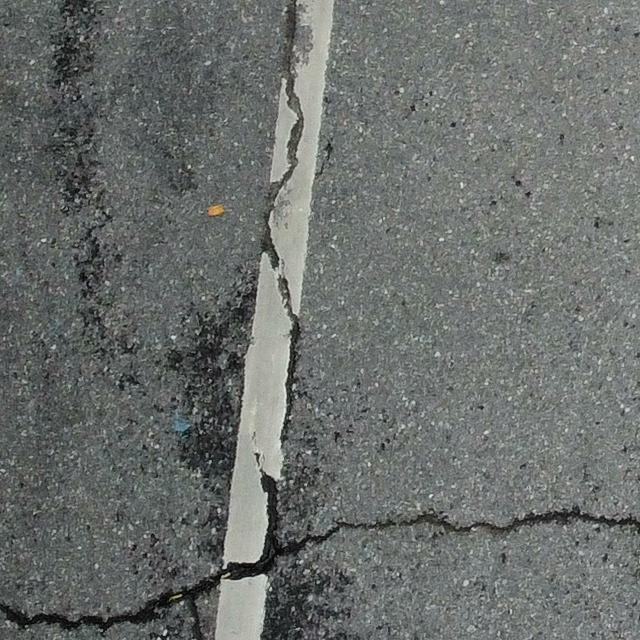LongitudinalCrack: (264, 1, 303, 444), (256, 444, 284, 554)
TransverseCrack: (5, 509, 640, 629)
